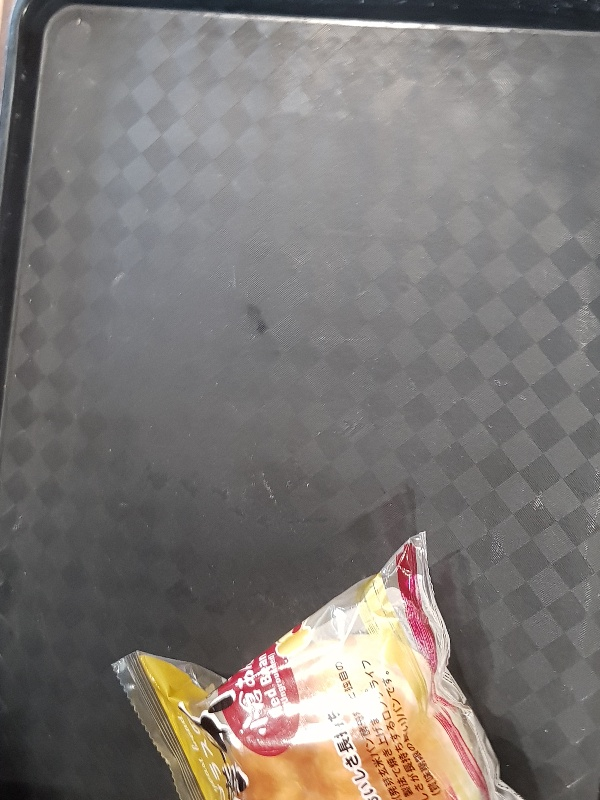Dayplus Red Bean: (109, 529, 527, 800)
